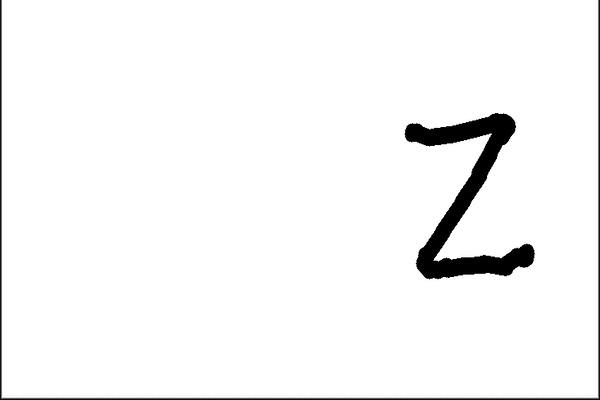Z: (380, 104, 550, 283)
